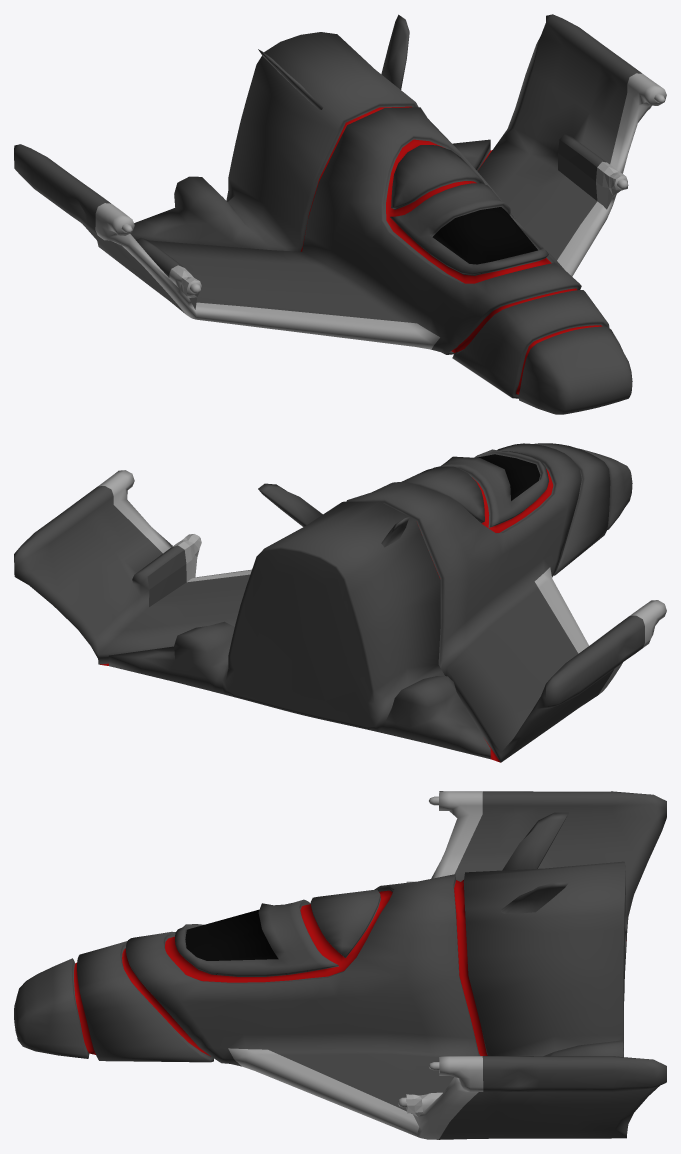
The model's file is spacecraft.obj.
3 renders of one model, top to bottom at view 1: azimuth 30°, elevation 25°; view 2: azimuth 150°, elevation 25°; view 3: azimuth 270°, elevation 25°, orthographic.
Visible parts, largest first — view 1: Cube; view 2: Cube; view 3: Cube.
Part boxes in pixels (bbox=[...]): Cube: bbox=[14, 14, 666, 414]; Cube: bbox=[14, 443, 666, 762]; Cube: bbox=[14, 791, 666, 1139].
Bounding box in the file's own units: 8.06 × 2.66 × 8.12.
